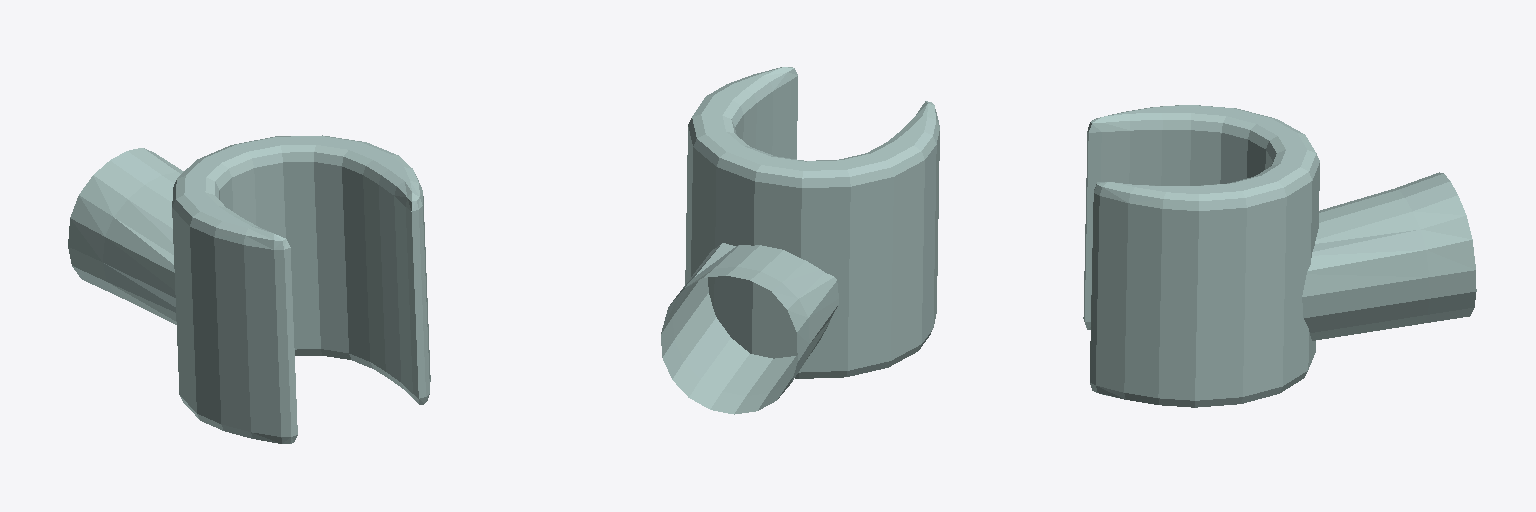
3 renders of one model, left to right at view 1: azimuth 30°, elevation 25°; view 2: azimuth 150°, elevation 25°; view 3: azimuth 270°, elevation 25°, orthographic.
Parts seen in each view (by area): view 1: Mesh_0142_Mesh_0142Mesh.001; view 2: Mesh_0142_Mesh_0142Mesh.001; view 3: Mesh_0142_Mesh_0142Mesh.001.
Boxes of the visible parts, box(x1,y1,x2,y2) form: Mesh_0142_Mesh_0142Mesh.001: box(68, 135, 430, 443); Mesh_0142_Mesh_0142Mesh.001: box(661, 67, 939, 414); Mesh_0142_Mesh_0142Mesh.001: box(1083, 105, 1476, 407).
Size of the model in its own units: 0.0458 by 0.0427 by 0.0698.
1 materials, 1 textured.